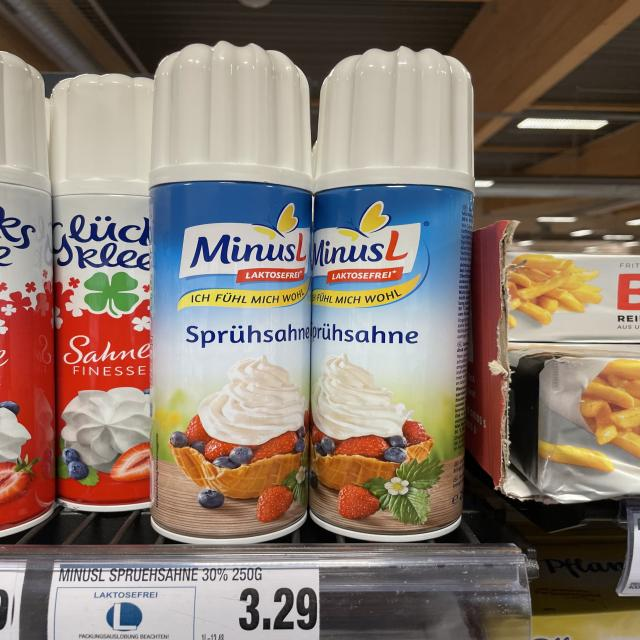cream: (149, 40, 312, 545), (309, 46, 474, 542), (48, 73, 153, 511), (0, 51, 54, 536), (415, 316, 416, 317)
